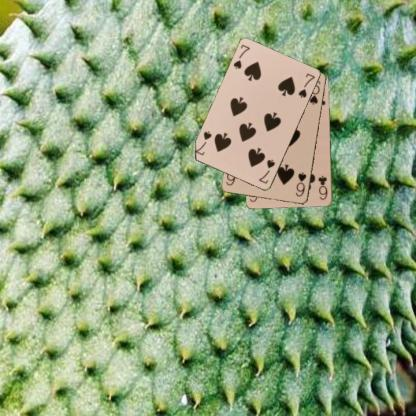6c: (315, 173, 329, 201)
6s: (293, 170, 308, 198)
7s: (256, 156, 276, 186), (231, 42, 251, 71)
